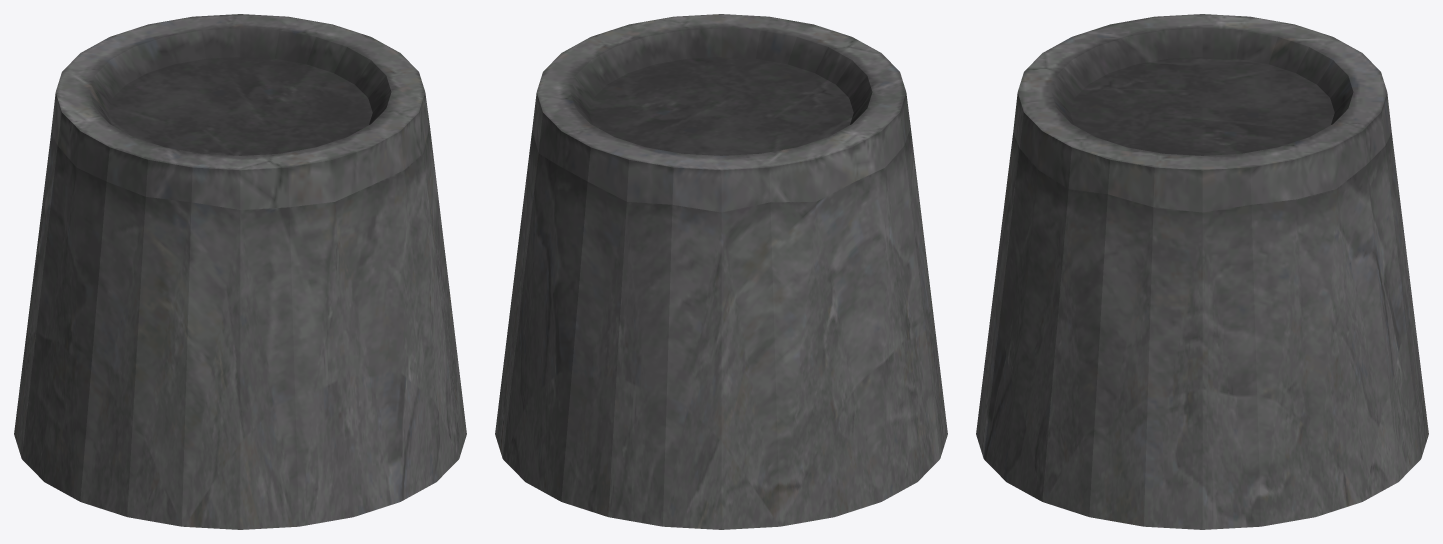
Rendered from Vent.fbx.
3 views of the same model, side by side, from view 1: azimuth 30°, elevation 25°; view 2: azimuth 150°, elevation 25°; view 3: azimuth 270°, elevation 25° (orthographic).
Visible parts, largest first — view 1: SM_ENV_NATURE_Cave_GasVent.mo; view 2: SM_ENV_NATURE_Cave_GasVent.mo; view 3: SM_ENV_NATURE_Cave_GasVent.mo.
Part boxes in pixels (box(x1,y1,x2,y2)): SM_ENV_NATURE_Cave_GasVent.mo: box(14, 14, 466, 529); SM_ENV_NATURE_Cave_GasVent.mo: box(495, 14, 947, 529); SM_ENV_NATURE_Cave_GasVent.mo: box(976, 14, 1428, 529).
Bounding box in the file's own units: 120 × 100 × 120.
Materials: 1 (1 with a texture image).
